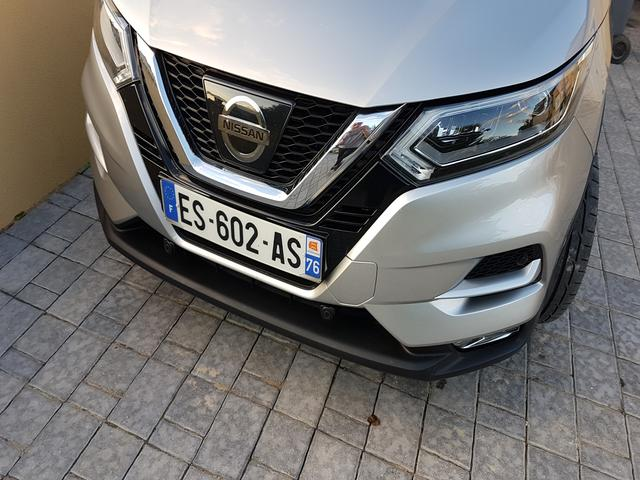Quashquai: (138, 158, 348, 310)
